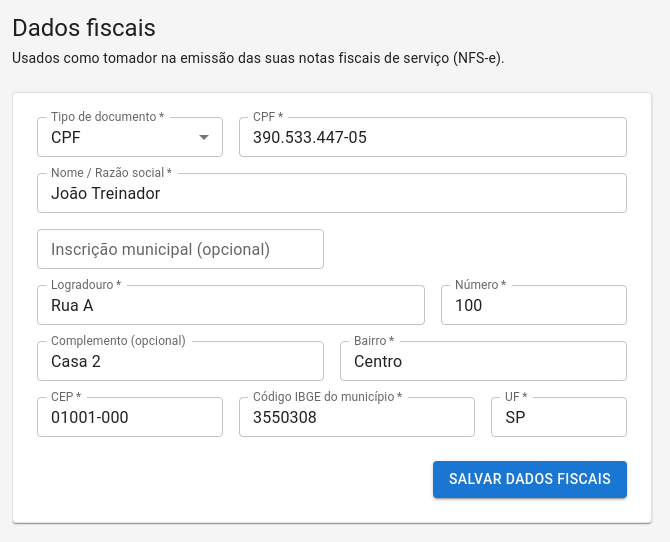
Test: DadosFiscaisTreinadorPage › não sobrescreve complemento quando o CEP não retorna complemento
Check: the field labelled "Complemento (opcional)" holds "Casa 2", box left=37, top=341, right=324, bottom=381
Replace the text in the field labelled "CEP *" with "20040002" at point(130, 417), box left=37, top=397, right=223, bottom=437
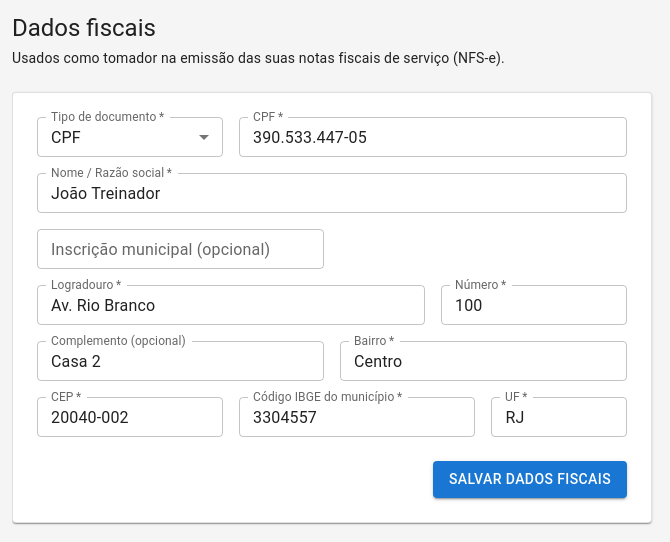
Check: the field labelled "Complemento (opcional)" holds "Casa 2", box left=37, top=341, right=324, bottom=381
Check: the field labelled "Logradouro *" holds "Av. Rio Branco", box left=37, top=285, right=425, bottom=325
